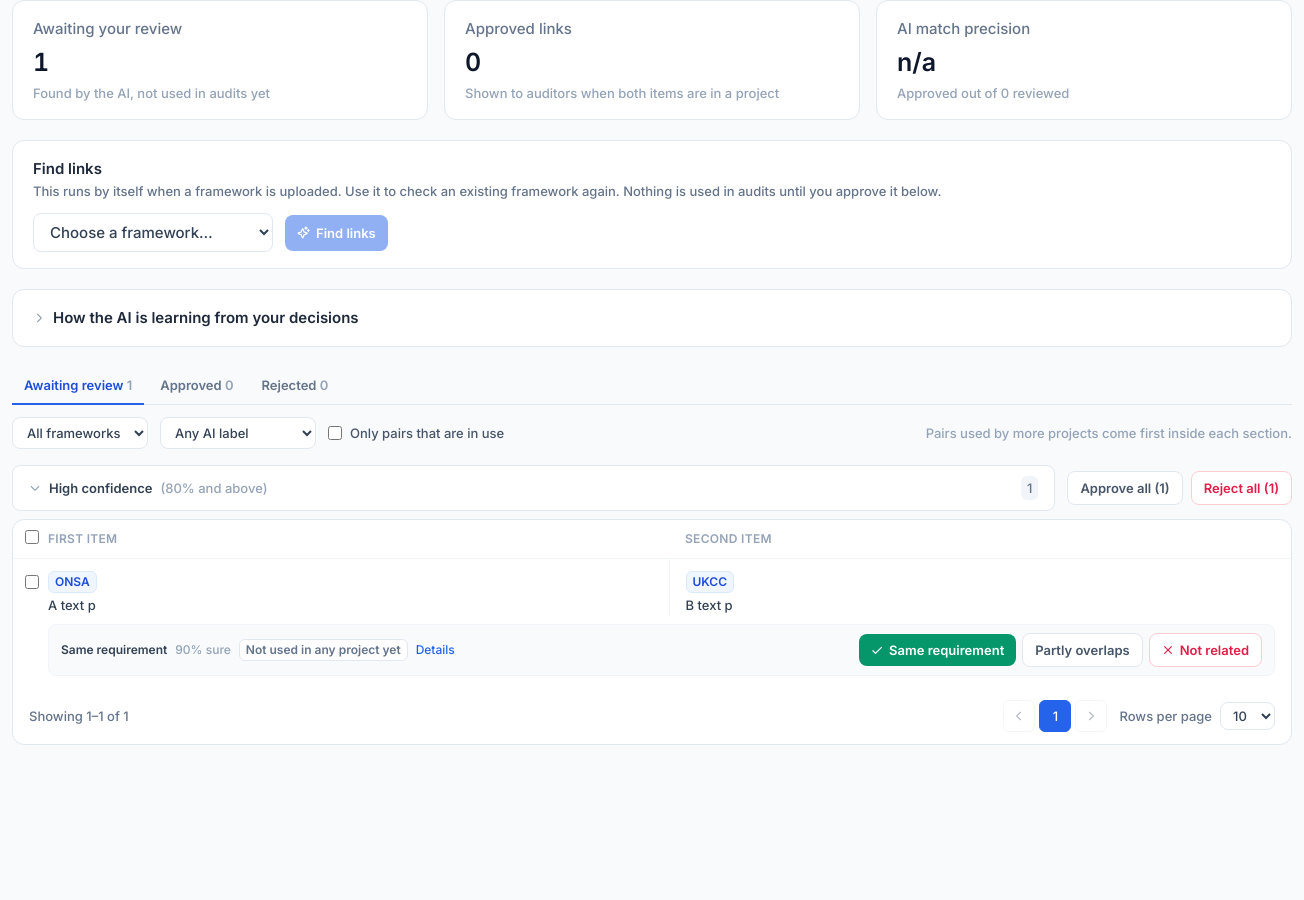
Test case: LinkedItemsPanel tabs and filters › says when no pair matches the filters
Check: the text "A text p" is shown, box [48,597,96,613]
Click the checkbox labelled "Only pairs that are in use" at point(335, 433), box [328,426,342,440]
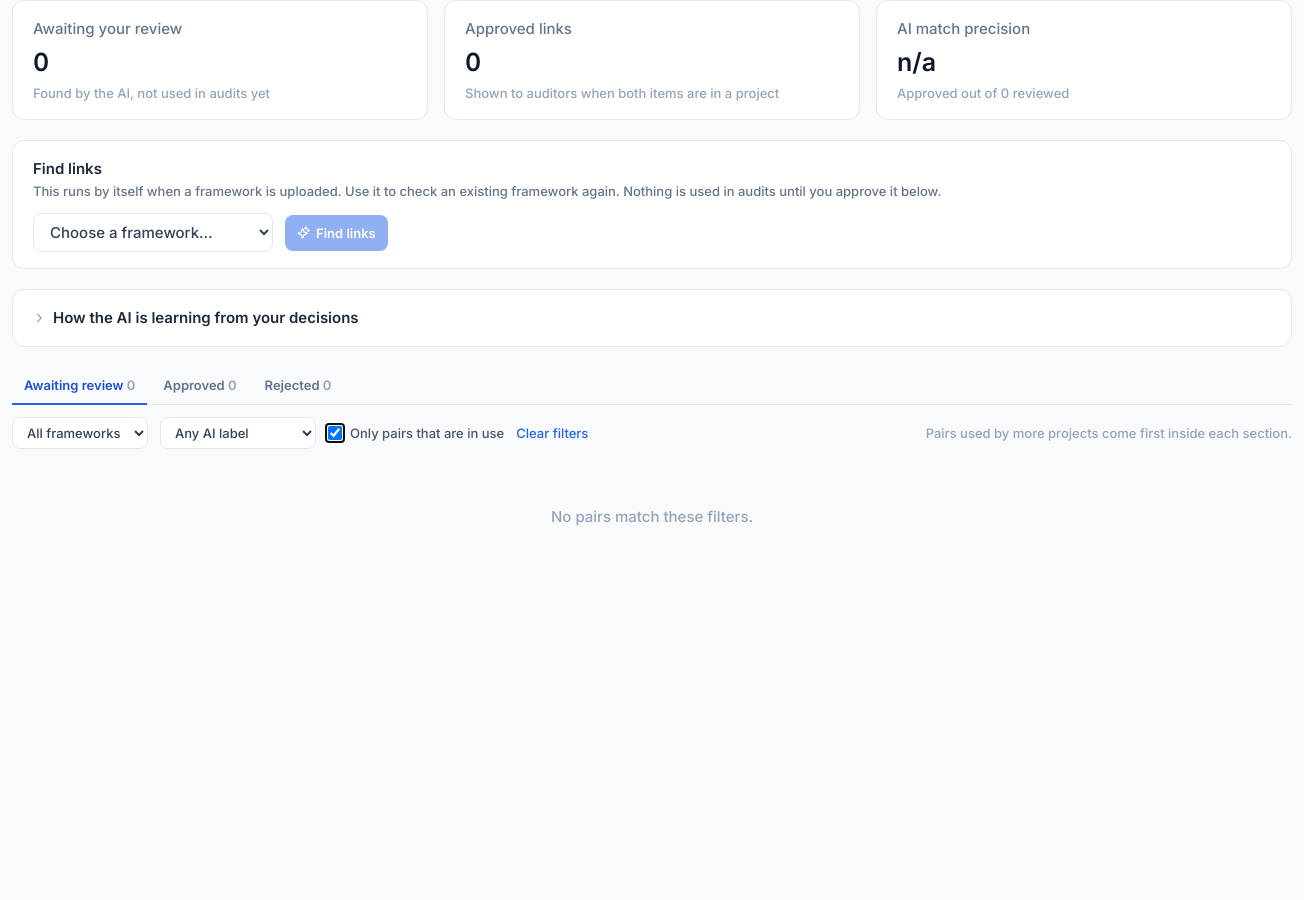
Check: the text "No pairs match these filters." is shown, box [551,507,753,526]
